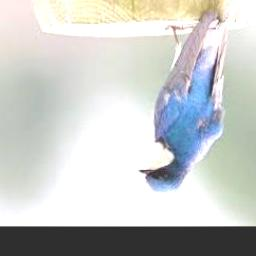Swallow: (140, 10, 227, 195)
